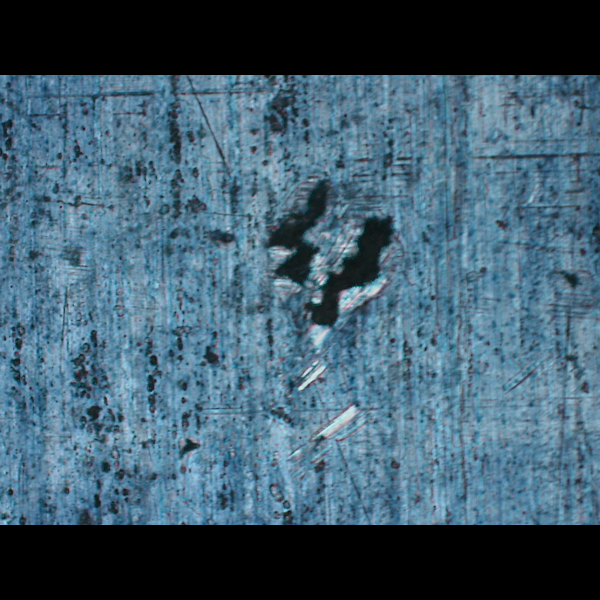d: (251, 181, 403, 408)
